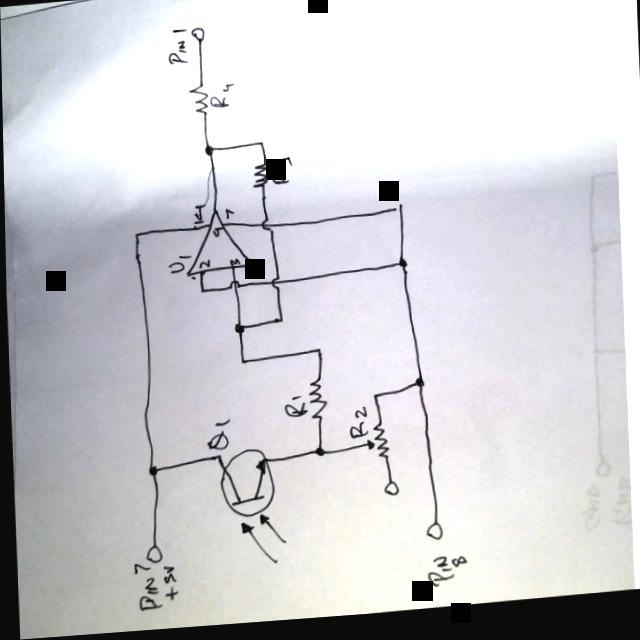crossover: (265, 275, 283, 294), (256, 219, 274, 238), (223, 279, 241, 298)
junction: (142, 466, 158, 479), (209, 451, 225, 464), (392, 261, 407, 274), (129, 231, 143, 244), (229, 326, 243, 339), (272, 316, 286, 329), (234, 357, 248, 370), (310, 449, 324, 462), (366, 395, 380, 408), (410, 381, 424, 394), (389, 207, 403, 220), (253, 139, 267, 152), (195, 286, 209, 299), (201, 146, 215, 158), (309, 349, 323, 361)
resistor: (359, 423, 388, 467), (303, 379, 327, 426), (186, 84, 209, 119), (249, 165, 267, 193)
terminal: (188, 26, 208, 48), (141, 545, 161, 566), (422, 527, 441, 549), (379, 483, 398, 502)
text: (128, 561, 176, 615), (422, 558, 466, 594), (165, 28, 191, 68), (201, 420, 230, 455), (206, 84, 237, 113), (267, 158, 293, 189), (345, 411, 367, 444), (280, 398, 307, 422), (165, 255, 191, 277), (190, 204, 206, 227), (226, 258, 241, 271), (221, 210, 235, 222), (196, 261, 211, 272), (209, 228, 221, 241)
transistor: (211, 447, 287, 574)
